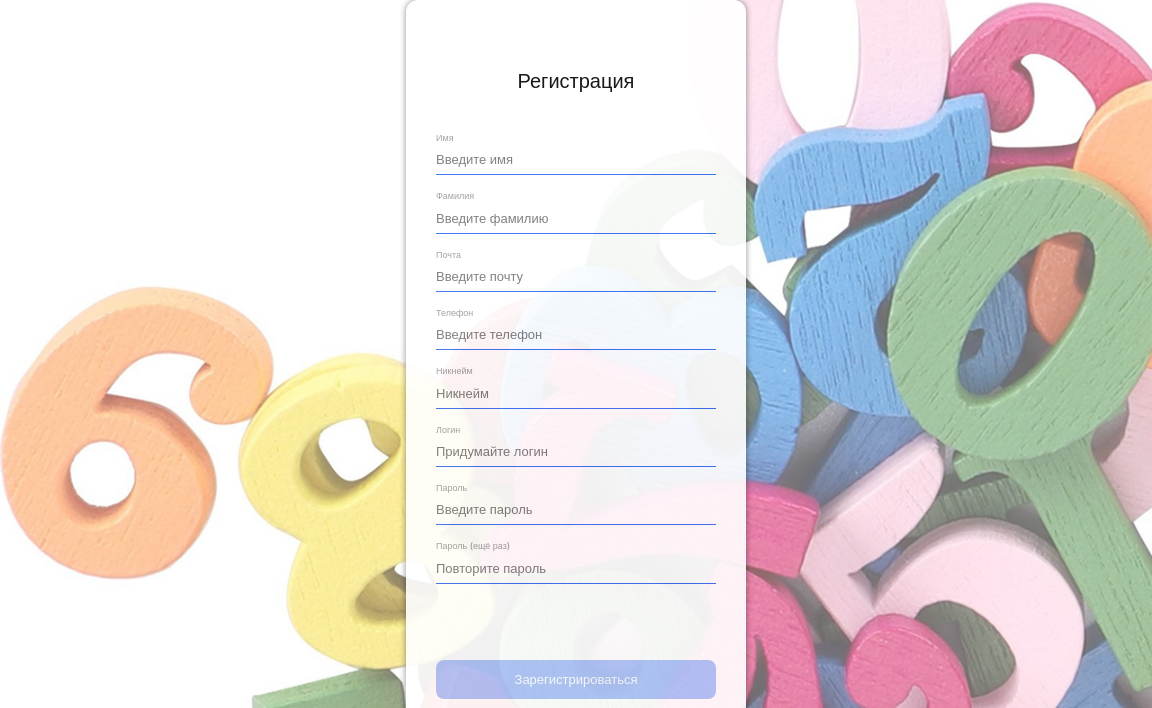
Test: SignUpPage › shows error validate for first_name
Type "никита" into the field labelled "Имя" at (576,159), box [436,143,716,175]
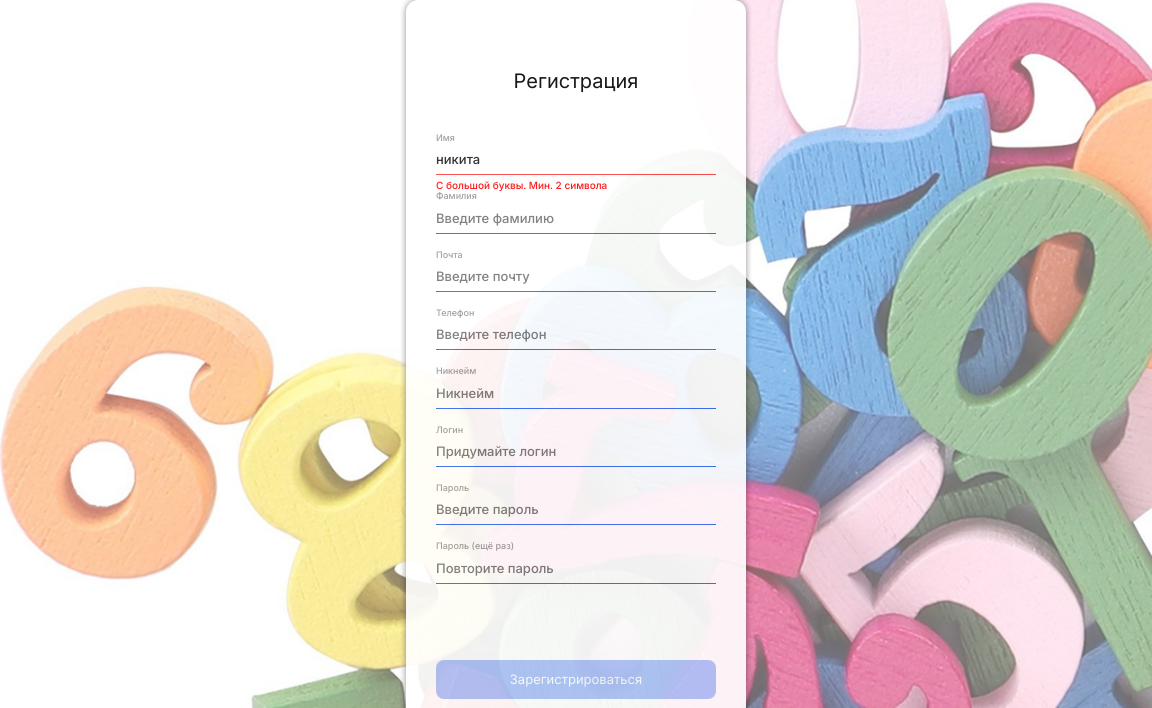
Now the text "С большой буквы. Мин. 2 символа" is shown, box [436,180,607,191]
